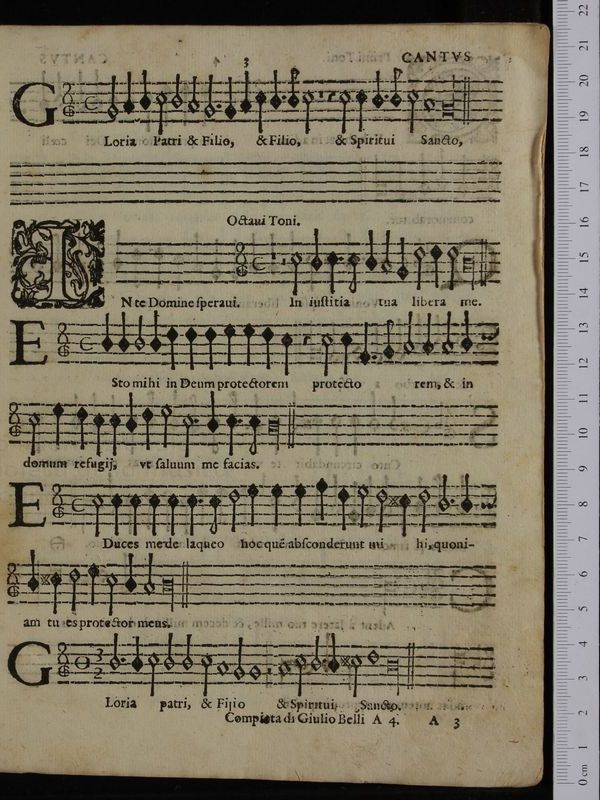Imin: (246, 247, 268, 279)
barline: (476, 233, 489, 288)
fusa_6: (345, 244, 362, 299)
g clef_9: (227, 236, 249, 287)
longa_7: (459, 246, 478, 289)
minim rest: (277, 233, 288, 290)
minim_5: (411, 239, 427, 293), (443, 241, 459, 291)
minim_6: (288, 244, 300, 300)
minim_8: (379, 226, 394, 279)
point: (333, 248, 347, 268)
semibreve rest: (268, 235, 278, 290)
semiminim_5: (428, 236, 444, 292)
semiminim_6: (324, 241, 339, 297)
semiminim_7: (363, 224, 379, 277), (314, 226, 324, 278)
semiminim_9: (395, 230, 410, 288)
